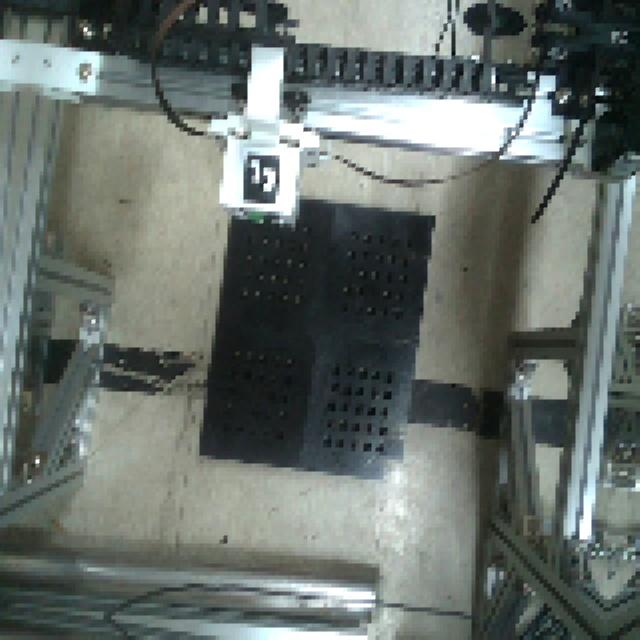pallet: (194, 188, 436, 480)
